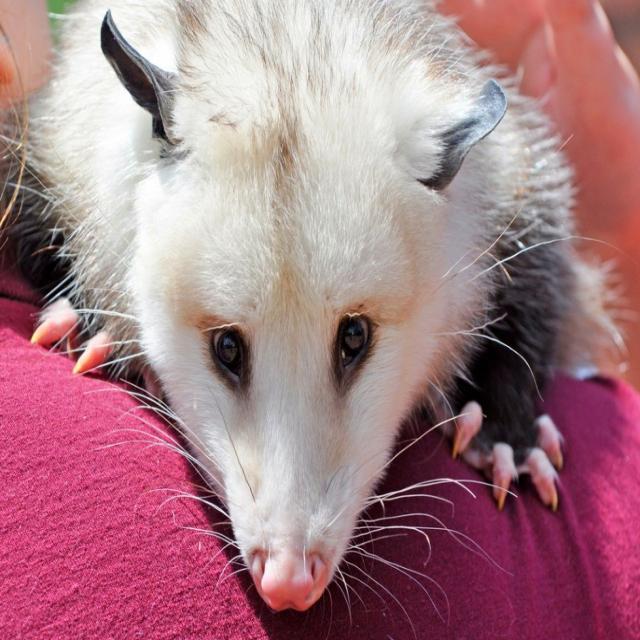possum: (1, 0, 625, 610)
